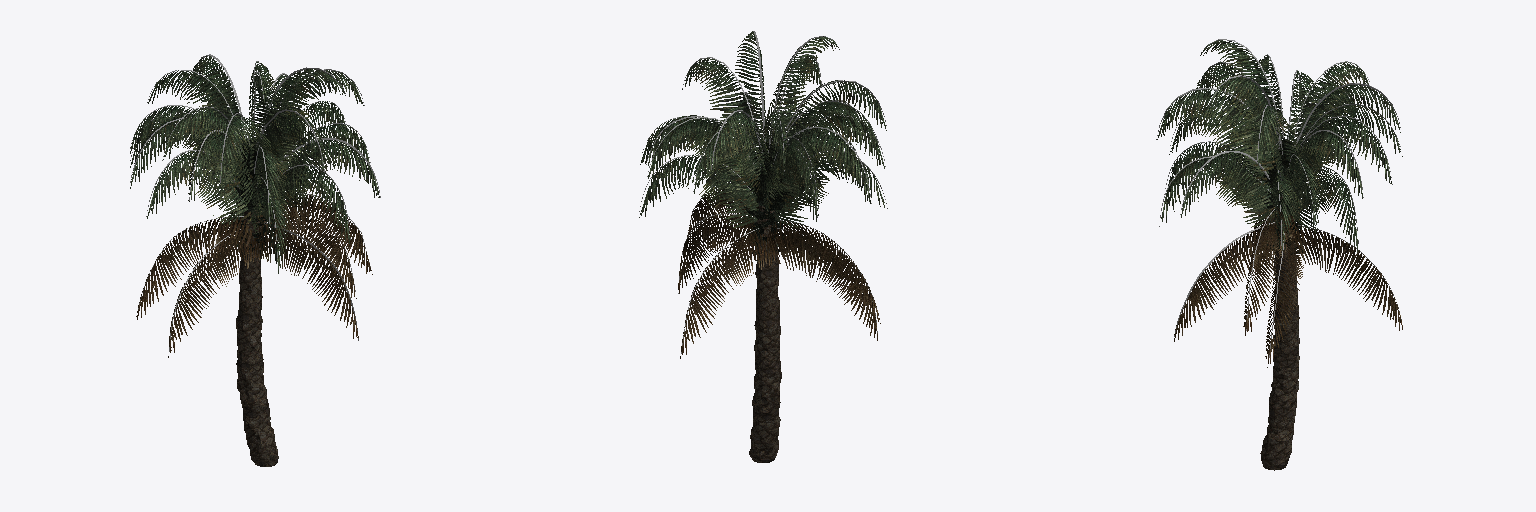
The picture shows the model from 3 angles: view 1: azimuth 30°, elevation 25°; view 2: azimuth 150°, elevation 25°; view 3: azimuth 270°, elevation 25°; orthographic projection.
Visible parts, largest first — view 1: Palm_tree_001_v2_M_frond_02_inst_Inst_0, Palm_tree_001_v2_M_frond_01_inst_0, Palm_tree_001_v2_M_palm_bark_01_0, Palm_tree_001_v2_M_palm_bark_02_0, Palm_tree_001_v2_M_bark_hair_inst_0; view 2: Palm_tree_001_v2_M_frond_02_inst_Inst_0, Palm_tree_001_v2_M_frond_01_inst_0, Palm_tree_001_v2_M_palm_bark_01_0, Palm_tree_001_v2_M_palm_bark_02_0, Palm_tree_001_v2_M_bark_hair_inst_0; view 3: Palm_tree_001_v2_M_frond_02_inst_Inst_0, Palm_tree_001_v2_M_frond_01_inst_0, Palm_tree_001_v2_M_palm_bark_01_0, Palm_tree_001_v2_M_palm_bark_02_0, Palm_tree_001_v2_M_bark_hair_inst_0.
Part boxes in pixels (left/top/right/bottom): Palm_tree_001_v2_M_frond_02_inst_Inst_0: left=130, top=56, right=379, bottom=273; Palm_tree_001_v2_M_frond_01_inst_0: left=136, top=195, right=372, bottom=357; Palm_tree_001_v2_M_palm_bark_01_0: left=236, top=205, right=278, bottom=466; Palm_tree_001_v2_M_palm_bark_02_0: left=130, top=54, right=380, bottom=351; Palm_tree_001_v2_M_bark_hair_inst_0: left=227, top=140, right=278, bottom=252; Palm_tree_001_v2_M_frond_02_inst_Inst_0: left=639, top=31, right=886, bottom=227; Palm_tree_001_v2_M_frond_01_inst_0: left=678, top=188, right=880, bottom=358; Palm_tree_001_v2_M_palm_bark_01_0: left=749, top=205, right=781, bottom=462; Palm_tree_001_v2_M_palm_bark_02_0: left=639, top=31, right=887, bottom=353; Palm_tree_001_v2_M_bark_hair_inst_0: left=743, top=142, right=793, bottom=262; Palm_tree_001_v2_M_frond_02_inst_Inst_0: left=1157, top=40, right=1402, bottom=252; Palm_tree_001_v2_M_frond_01_inst_0: left=1174, top=201, right=1402, bottom=367; Palm_tree_001_v2_M_palm_bark_01_0: left=1260, top=196, right=1299, bottom=470; Palm_tree_001_v2_M_palm_bark_02_0: left=1156, top=39, right=1401, bottom=357; Palm_tree_001_v2_M_bark_hair_inst_0: left=1261, top=140, right=1309, bottom=254.
Bounding box in the file's own units: 2.88 × 4.86 × 2.65.
Materials: 5 (4 with a texture image).